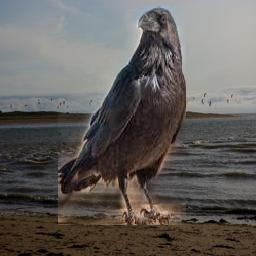Crow: (58, 7, 186, 226)
